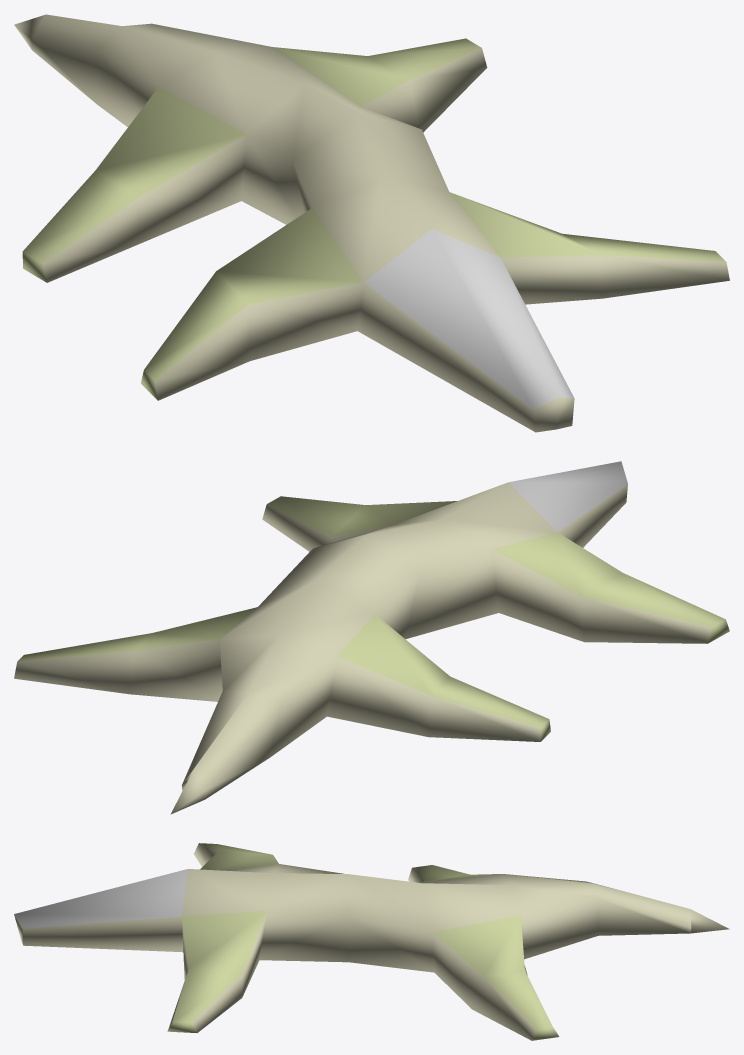
File: lizard.fbx
3 views of the same model, one above another, from view 1: azimuth 30°, elevation 25°; view 2: azimuth 150°, elevation 25°; view 3: azimuth 270°, elevation 25° (orthographic). The views are drawn at different scales.
Visible parts, largest first — view 1: Lizard; view 2: Lizard; view 3: Lizard.
Boxes of the visible parts, <box> form: Lizard: <box>14,14,729,432</box>; Lizard: <box>14,461,729,814</box>; Lizard: <box>14,843,729,1040</box>.
Size of the model in its own units: 0.2737 by 0.0616 by 0.4395.
